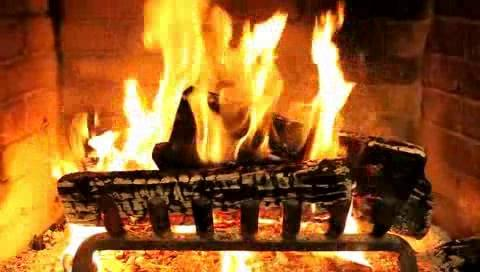fire: (130, 6, 354, 160)
